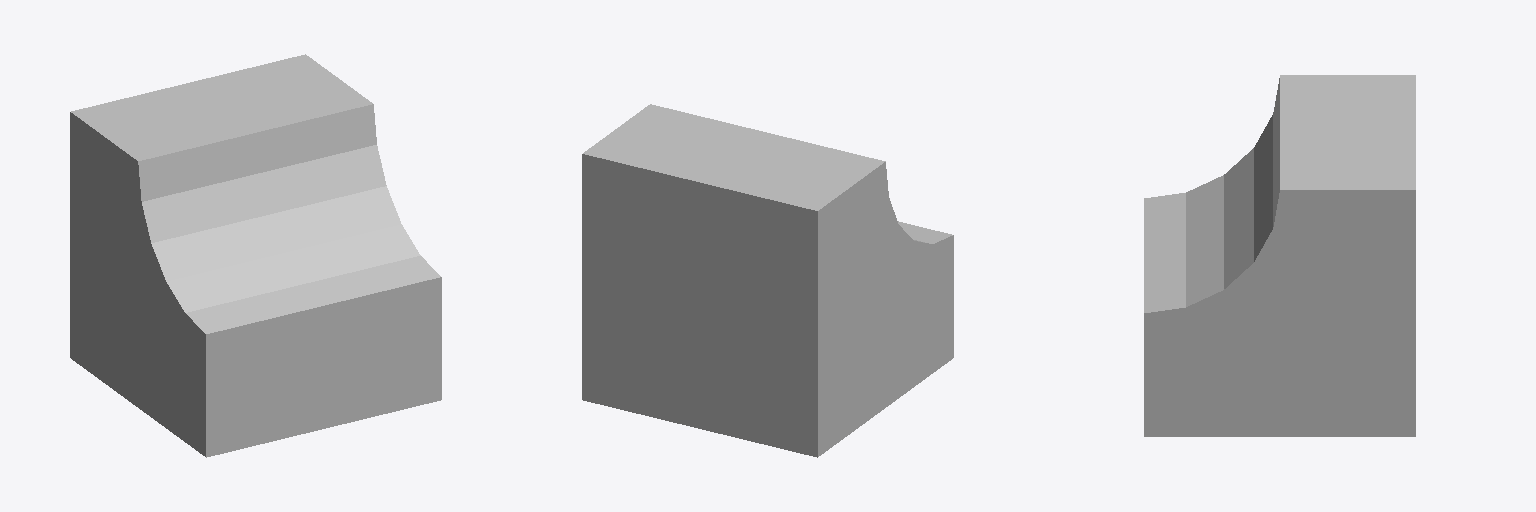
3 views of the same model, side by side, from view 1: azimuth 30°, elevation 25°; view 2: azimuth 150°, elevation 25°; view 3: azimuth 270°, elevation 25° (orthographic).
Parts seen in each view (by area): view 1: Base09; view 2: Base09; view 3: Base09.
Part boxes in pixels (bbox=[...]): Base09: bbox=[70, 54, 441, 457]; Base09: bbox=[582, 104, 953, 457]; Base09: bbox=[1144, 75, 1415, 436].
Bounding box in the file's own units: 2 × 2 × 2.